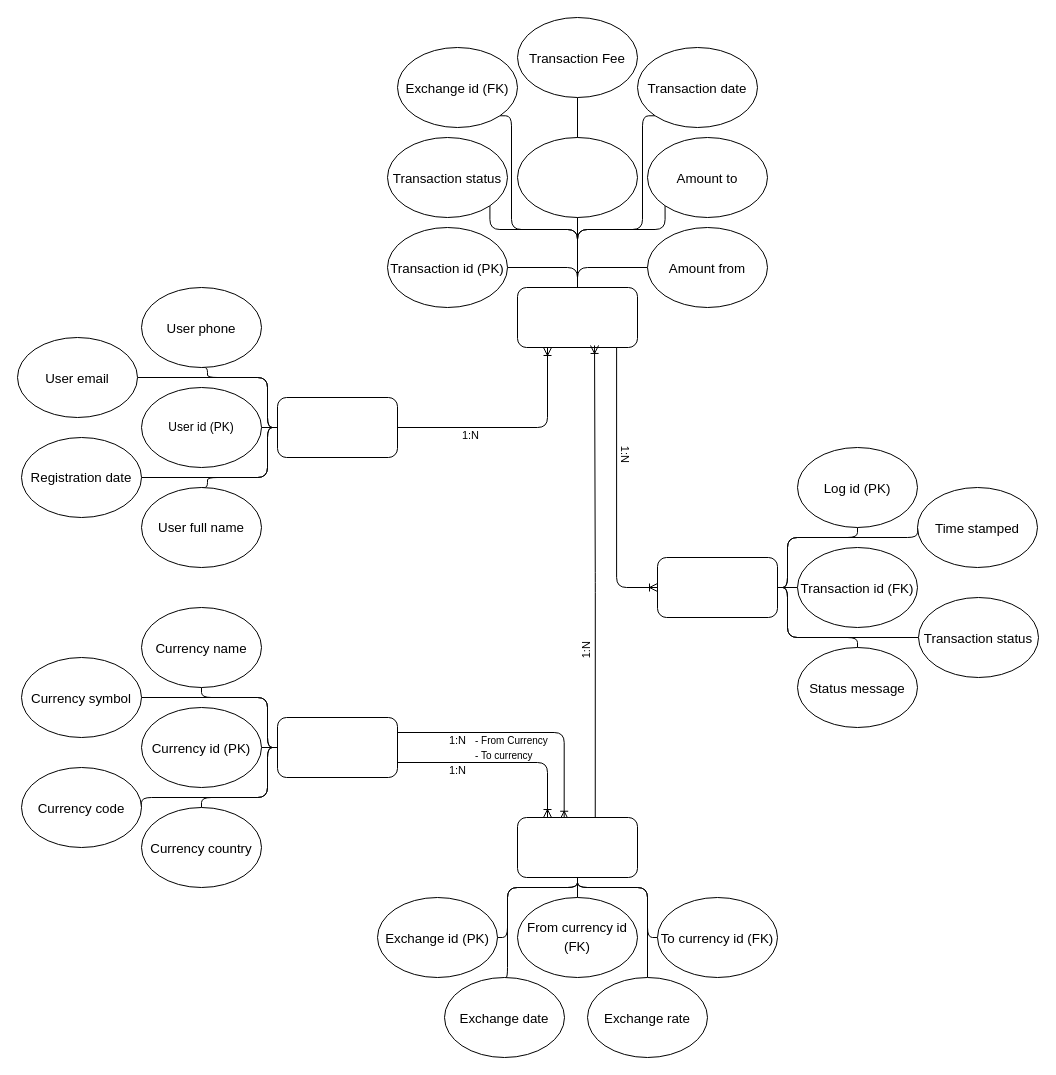
Image size: 1056x1075. Some labels were removed from this diagram. The shapes that lost their labels are listed below. From the top down, each one's box as (x1, y1, x2, y2) in pixels, then its label:
(516, 136, 638, 218): User id (FK)
(516, 286, 638, 348): Transaction
(276, 396, 398, 458): Users
(656, 556, 778, 618): Log
(276, 716, 398, 778): Currency
(516, 816, 638, 878): ExchangeRate
